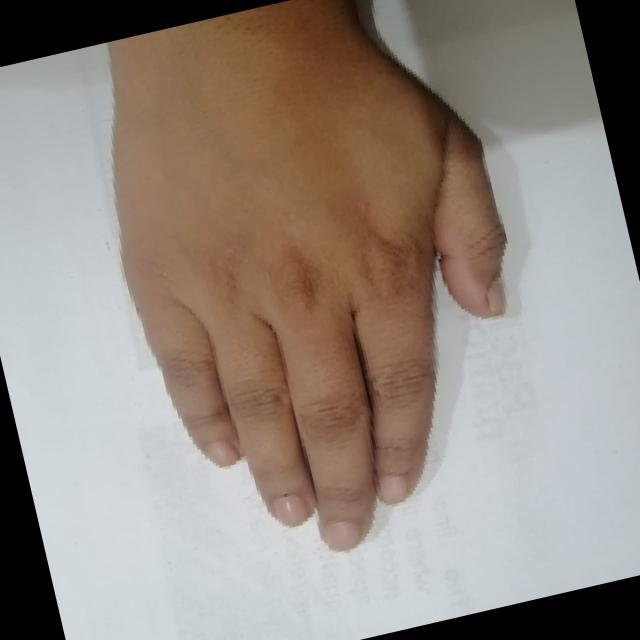Nail: (270, 493, 309, 525), (322, 519, 362, 549), (204, 438, 240, 466), (376, 473, 409, 502), (487, 278, 505, 315)
